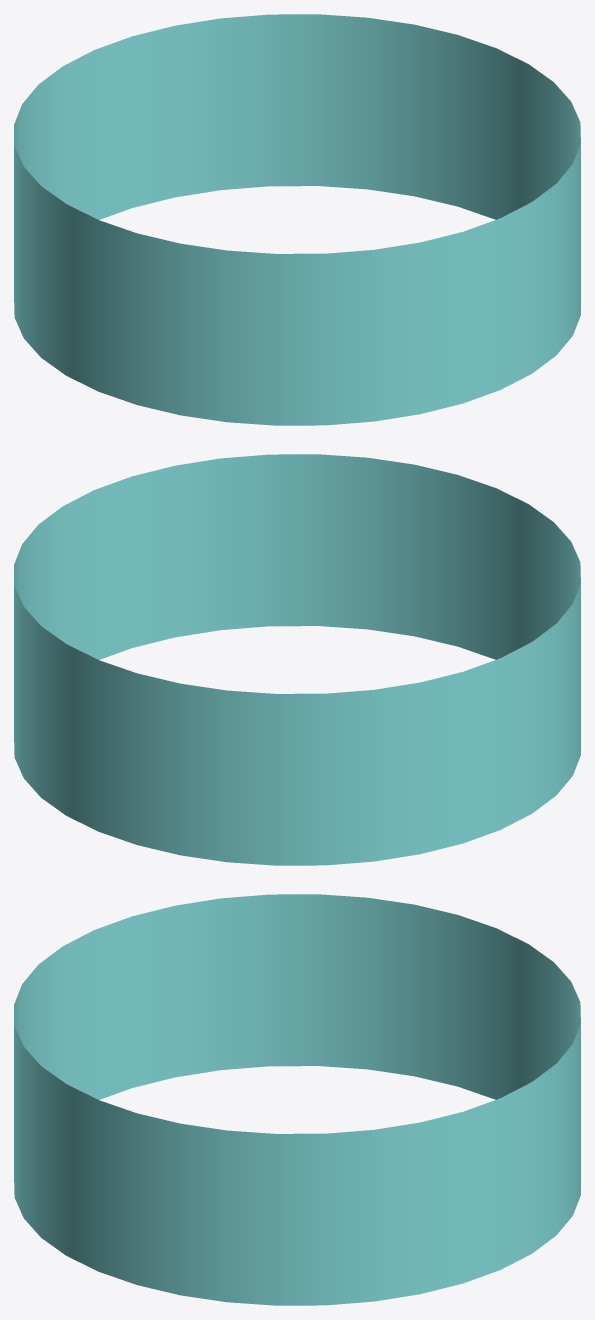
File: original-16.obj
3 renders of one model, top to bottom at view 1: azimuth 30°, elevation 25°; view 2: azimuth 150°, elevation 25°; view 3: azimuth 270°, elevation 25°, orthographic.
Visible parts, largest first — view 1: #ID72; view 2: #ID72; view 3: #ID72.
Part boxes in pixels (x1,y1,x2,y2): #ID72: (14, 14, 580, 425); #ID72: (14, 454, 580, 865); #ID72: (14, 894, 580, 1305).
Bounding box in the file's own units: 0.0464 × 0.0155 × 0.0464.
